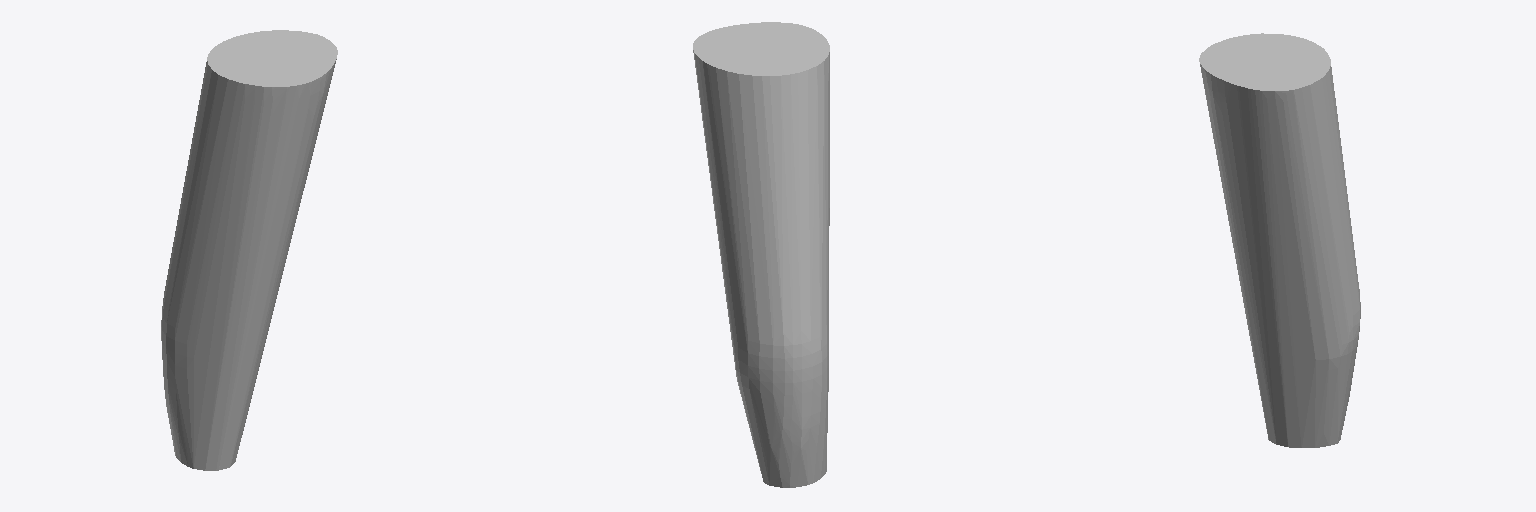
Rendered from woman_collision_3.obj.
The picture shows the model from 3 angles: view 1: azimuth 30°, elevation 25°; view 2: azimuth 150°, elevation 25°; view 3: azimuth 270°, elevation 25°; orthographic projection.
Bounding box in the file's own units: 22.26 × 59.11 × 21.64.